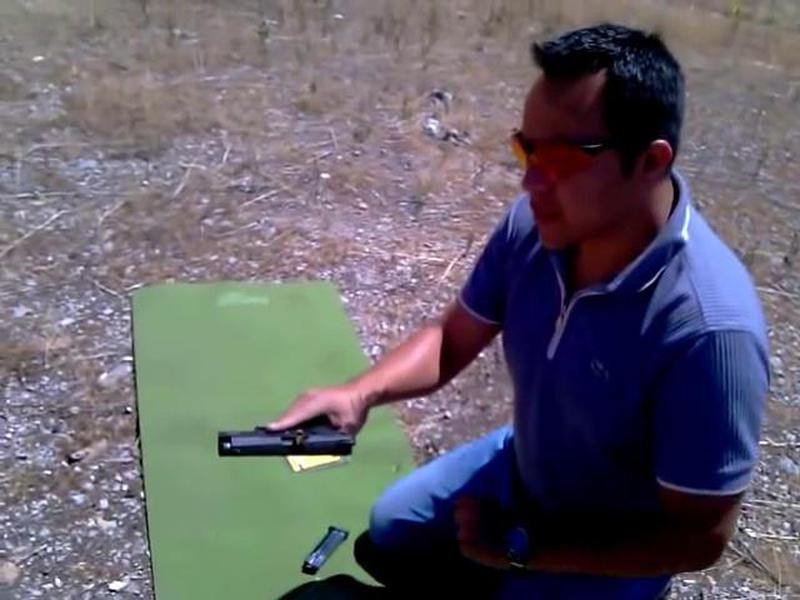Pistola: (188, 398, 366, 483)
